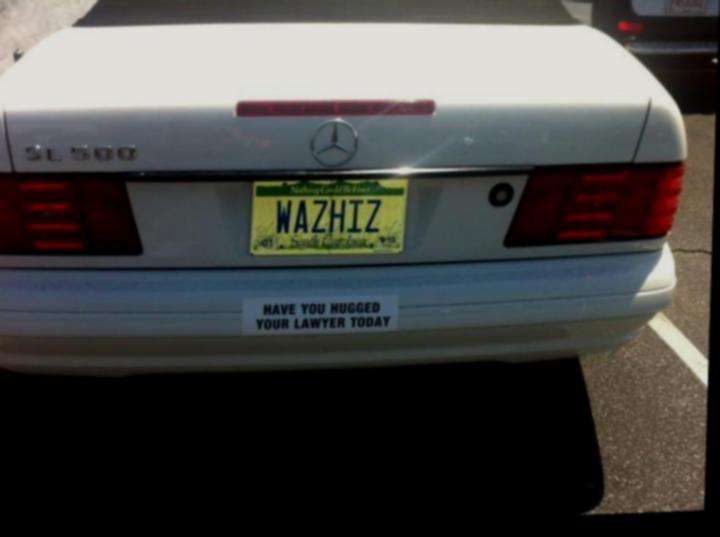License_Plate: (240, 162, 417, 264)
